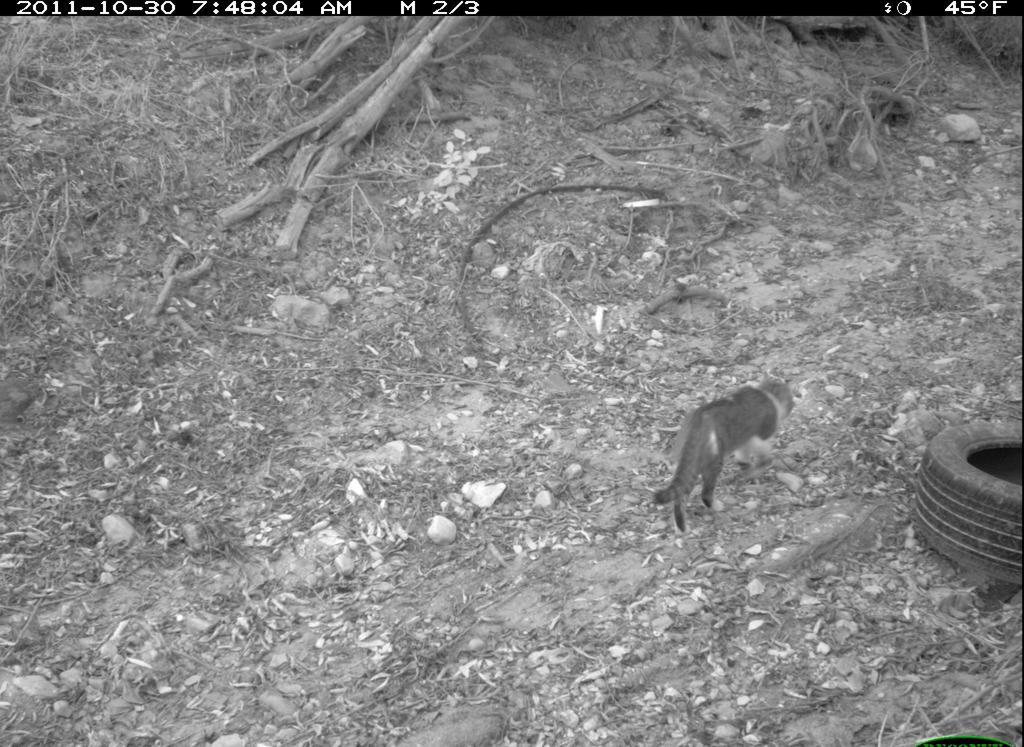cat: (646, 366, 809, 542)
